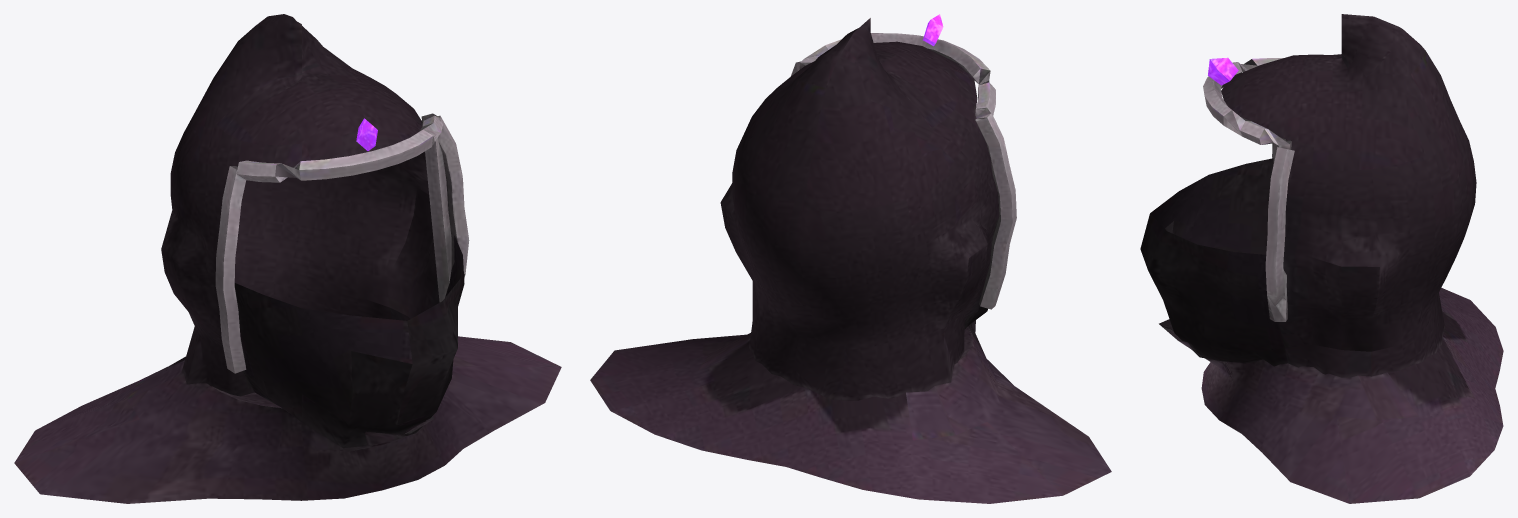
Rendered from Capuz_do_Assassino_nivel50.glb.
3 views of the same model, side by side, from view 1: azimuth 30°, elevation 25°; view 2: azimuth 150°, elevation 25°; view 3: azimuth 270°, elevation 25° (orthographic). The views are drawn at different scales.
Visible parts, largest first — view 1: capuz_do_assassino_nivel50; view 2: capuz_do_assassino_nivel50; view 3: capuz_do_assassino_nivel50.
Boxes of the visible parts, x1,y1,x2,y2 form: capuz_do_assassino_nivel50: [14, 14, 561, 503]; capuz_do_assassino_nivel50: [590, 14, 1111, 503]; capuz_do_assassino_nivel50: [1140, 14, 1503, 503].
Size of the model in its own units: 0.4628 by 0.348 by 0.3073.
1 material, 1 textured.
